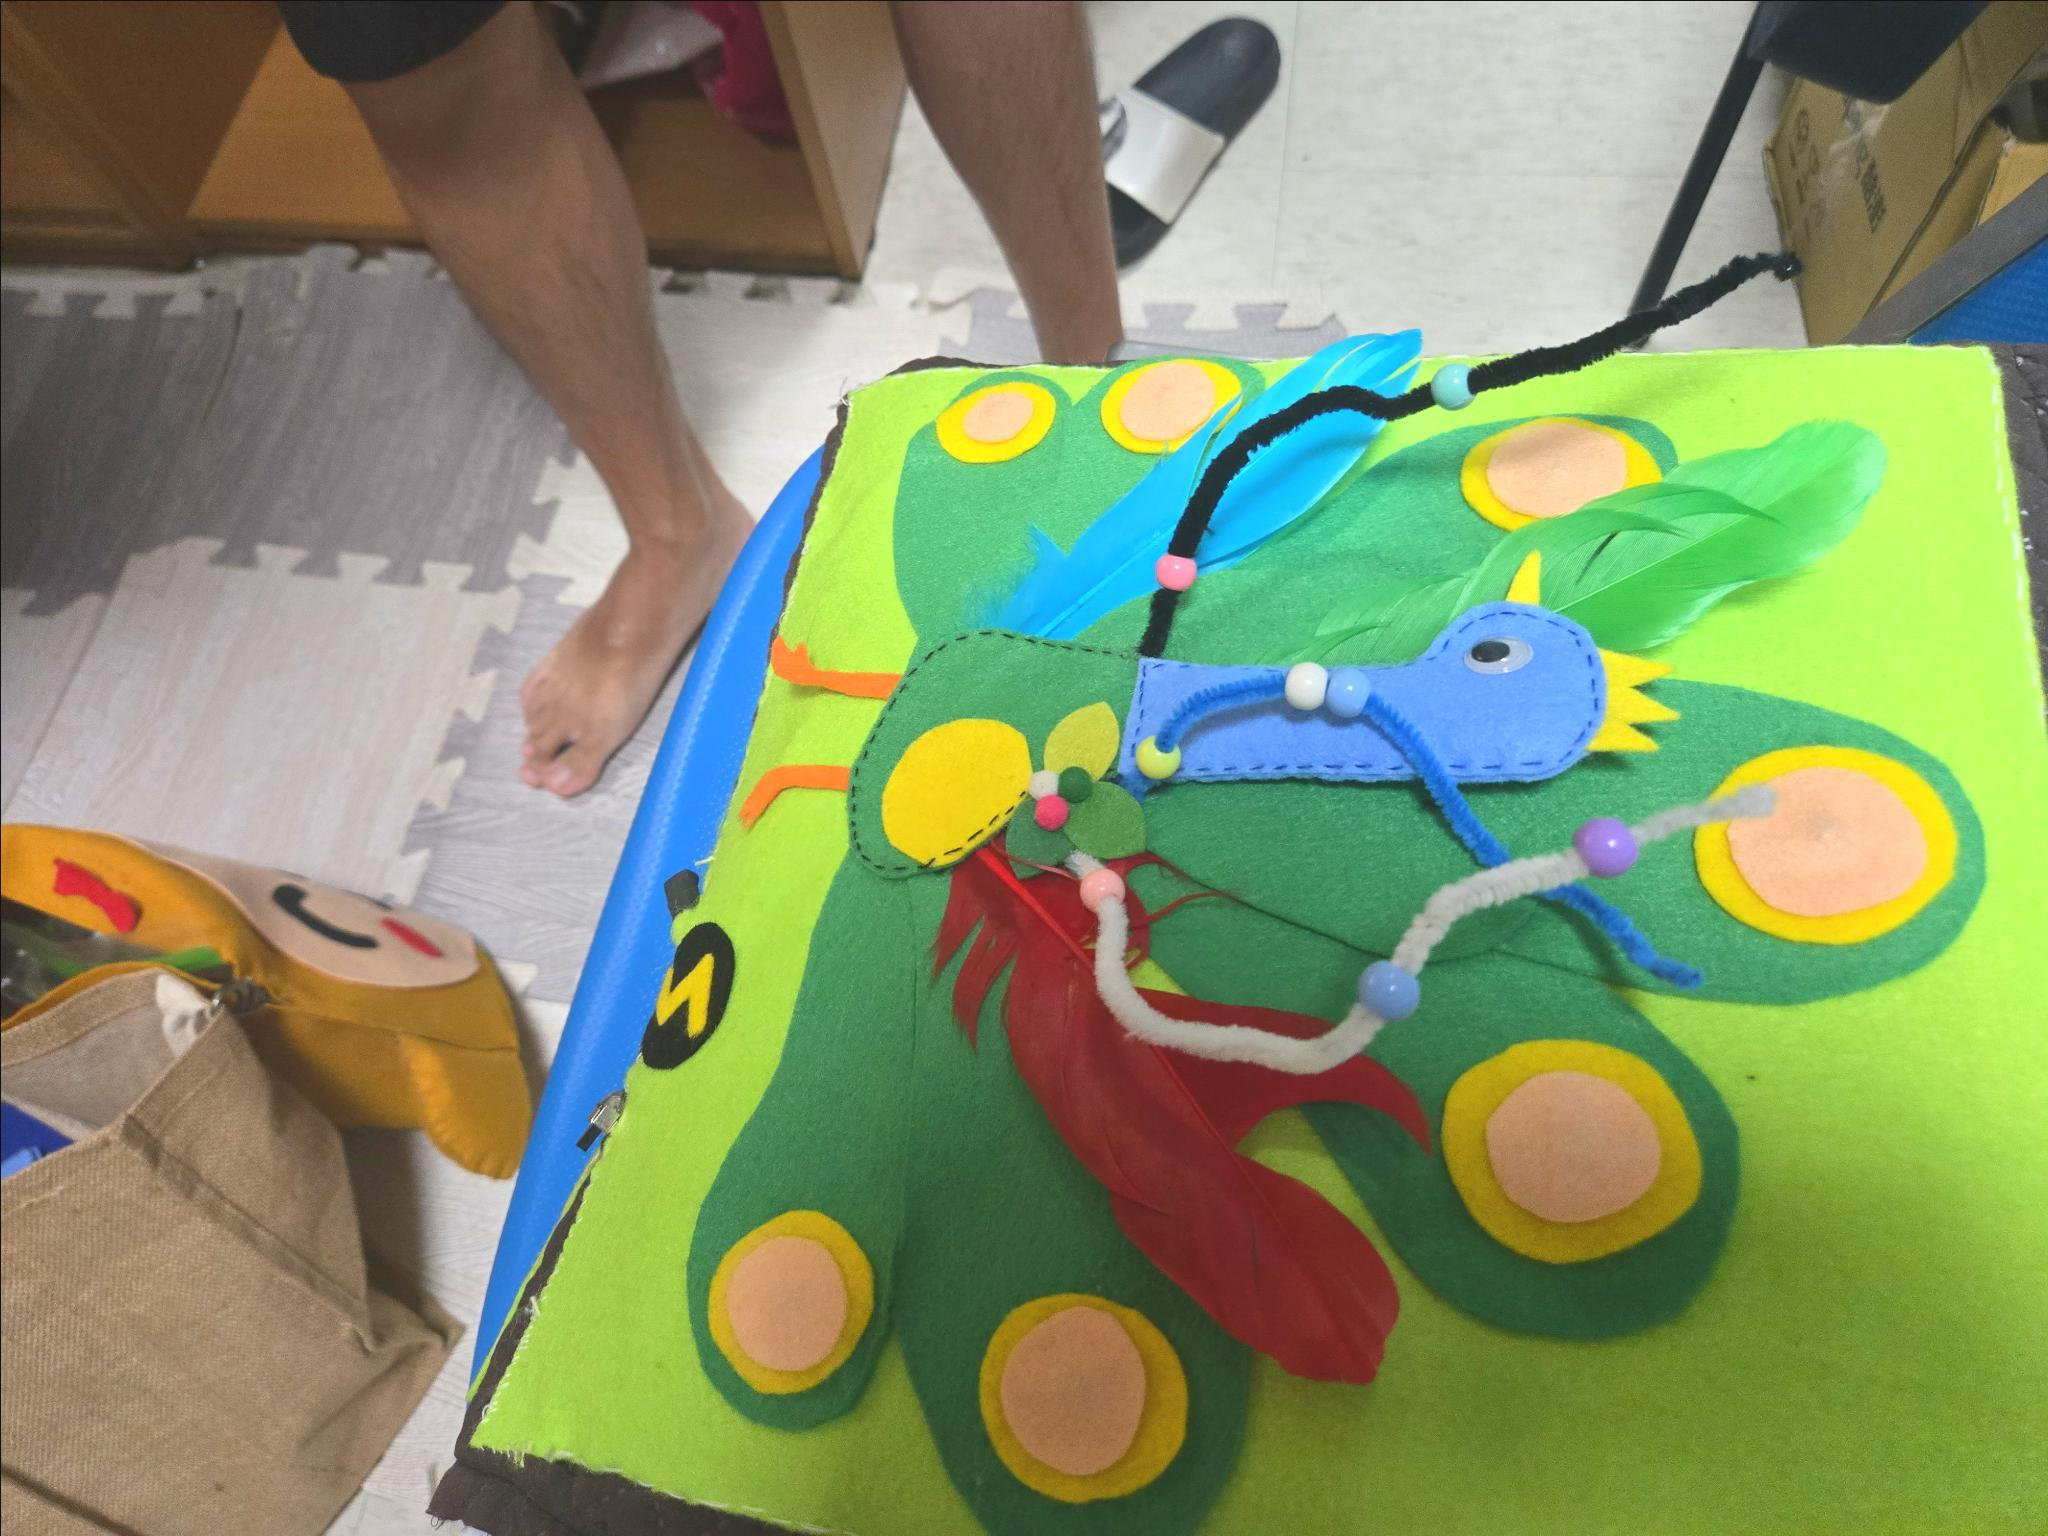bead: (1563, 805, 1646, 892), (1347, 945, 1430, 1026), (1119, 723, 1193, 797), (1329, 652, 1374, 741), (1280, 644, 1327, 729), (1424, 349, 1479, 415), (1066, 857, 1124, 918), (1150, 549, 1206, 610)
